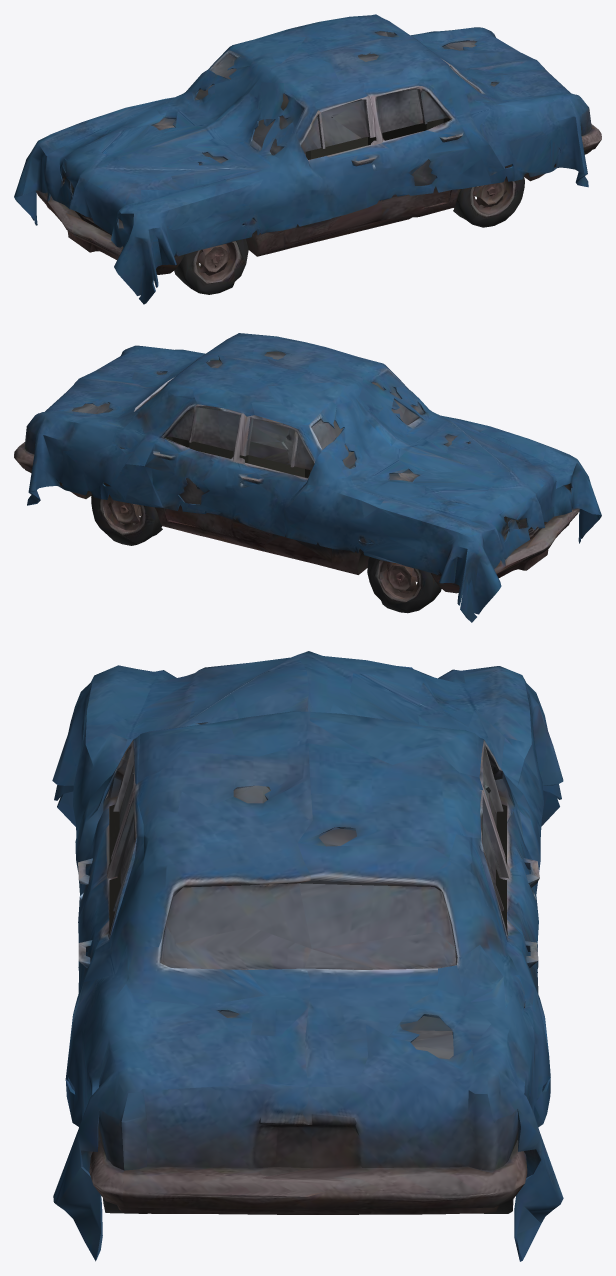
Rendered from car_old_blue.glb.
3 views of the same model, one above another, from view 1: azimuth 30°, elevation 25°; view 2: azimuth 150°, elevation 25°; view 3: azimuth 270°, elevation 25° (orthographic). The views are drawn at different scales.
Visible parts, largest first — view 1: body, door_front_1, door_front_2, wheel_3, wheel_1; view 2: body, door_back_1, door_back_2, wheel_4, wheel_2; view 3: body, door_back_2, door_front_2, door_front_1, door_back_1.
Part boxes in pixels (box(x1,y1,x2,y2)): body: box(14, 14, 601, 304); door_front_1: box(295, 93, 388, 223); door_front_2: box(373, 78, 463, 203); wheel_3: box(453, 164, 524, 227); wheel_1: box(195, 239, 248, 294); body: box(14, 333, 601, 622); door_back_1: box(227, 412, 320, 541); door_back_2: box(152, 396, 242, 521); wheel_4: box(91, 482, 162, 545); wheel_2: box(372, 568, 413, 611); body: box(52, 651, 563, 1261); door_back_2: box(472, 790, 538, 990); door_front_2: box(78, 790, 143, 991); door_front_1: box(75, 735, 140, 970); door_back_1: box(476, 735, 540, 972).
Size of the model in its own units: 4.7 by 1.53 by 2.11.
4 materials, 4 textured.
